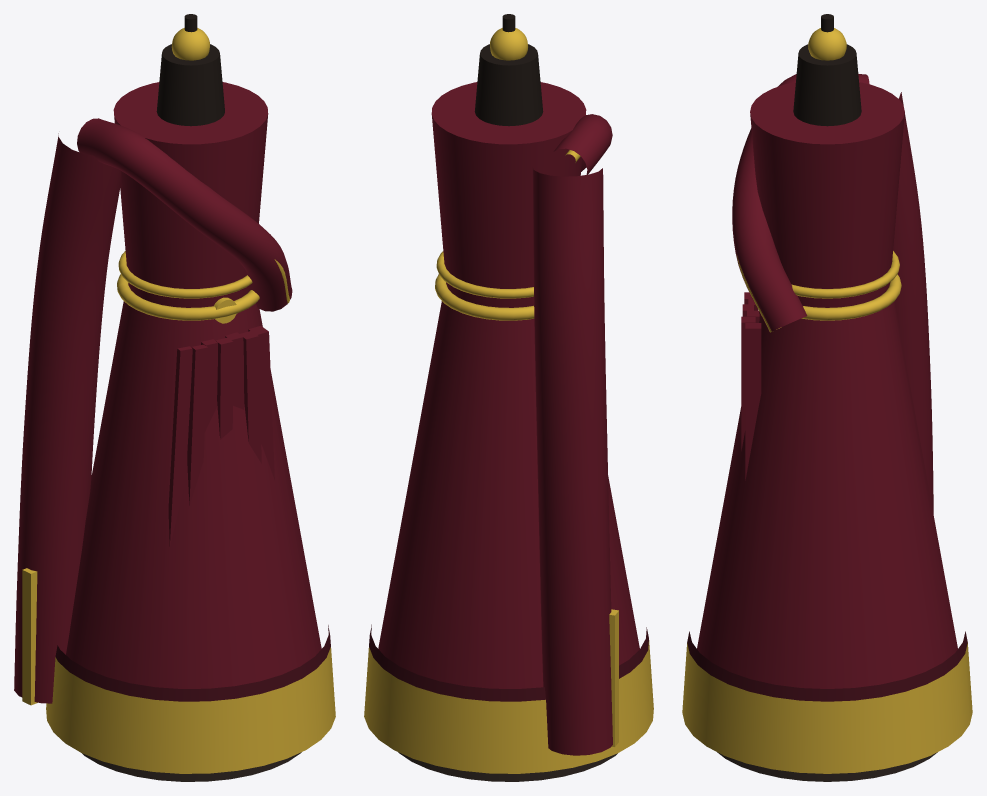
File: royal-maroon.glb
3 views of the same model, side by side, from view 1: azimuth 30°, elevation 25°; view 2: azimuth 150°, elevation 25°; view 3: azimuth 270°, elevation 25° (orthographic).
Visible parts, largest first — view 1: Royal Maroon; view 2: Royal Maroon; view 3: Royal Maroon.
Part boxes in pixels (x1,y1,x2,y2): Royal Maroon: [14, 14, 335, 781]; Royal Maroon: [364, 14, 653, 781]; Royal Maroon: [682, 14, 972, 781].
Size of the model in its own units: 0.9414 by 2.44 by 0.9.
